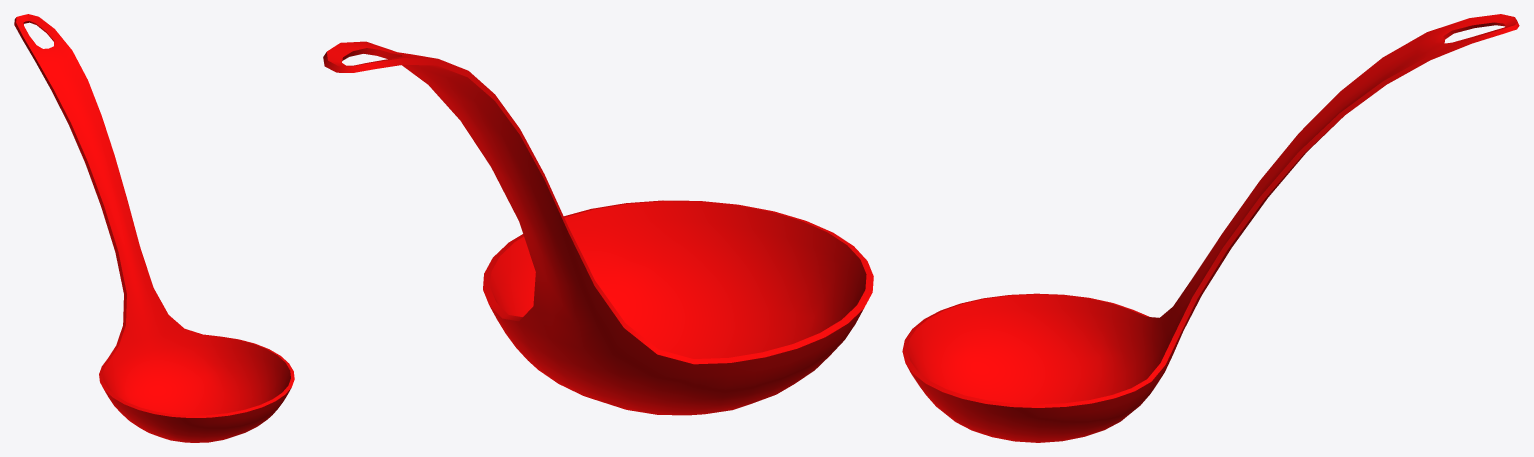
File: ladle_red.obj
3 views of the same model, side by side, from view 1: azimuth 30°, elevation 25°; view 2: azimuth 150°, elevation 25°; view 3: azimuth 270°, elevation 25° (orthographic). The views are drawn at different scales.
Parts seen in each view (by area): view 1: Cube.005; view 2: Cube.005; view 3: Cube.005.
Boxes of the visible parts, x1,y1,x2,y2 form: Cube.005: (14, 14, 294, 442); Cube.005: (323, 41, 873, 415); Cube.005: (902, 14, 1519, 442).
Size of the model in its own units: 0.0791 by 0.1301 by 0.1803.
1 material, 1 textured.
